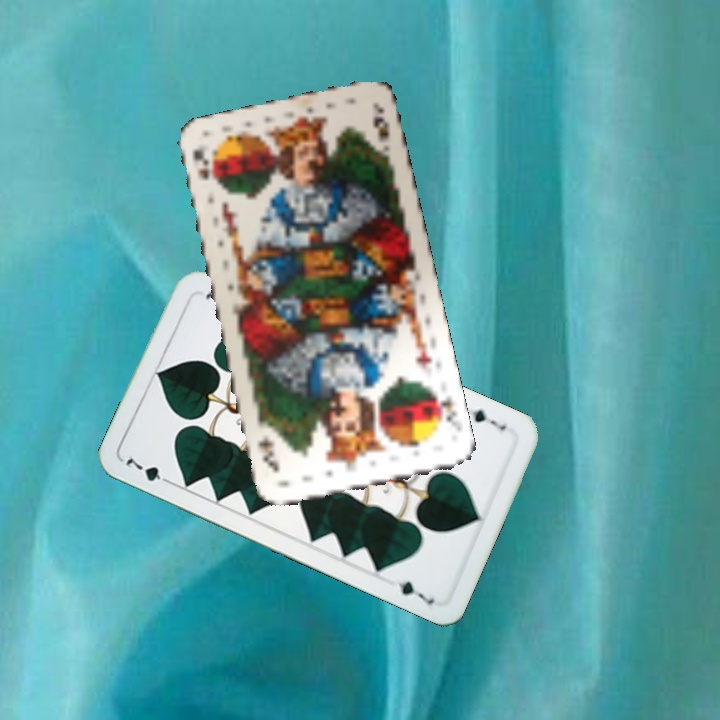G7: (121, 453, 176, 488), (468, 405, 509, 433)
SK: (427, 387, 460, 432), (188, 144, 213, 183)
